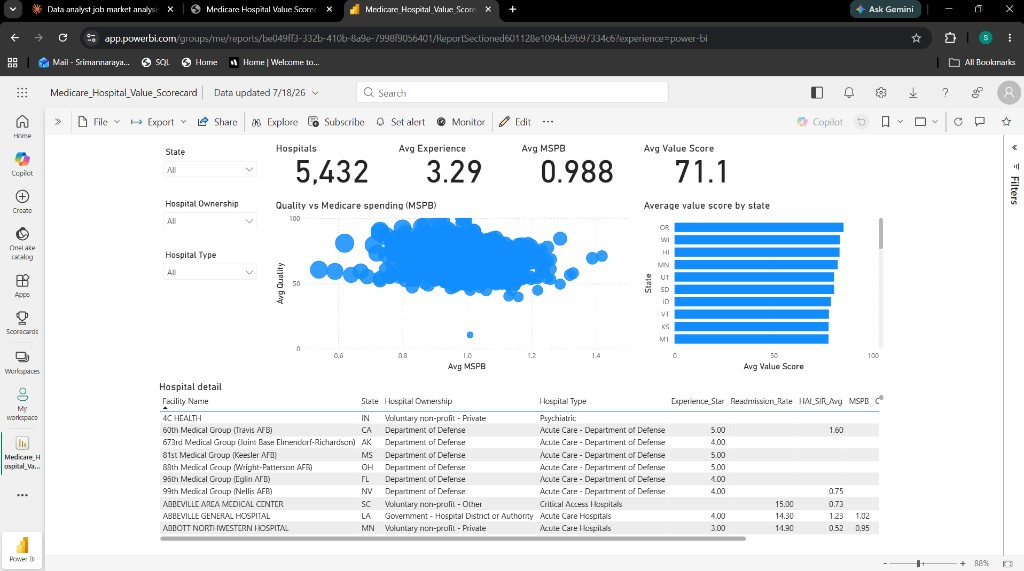

What the dashboard file says about the page in this screenshot:
{"tool":"powerbi","page":{"name":"Scorecard","canvas":[1280,720],"ordinal":0},"visuals":[{"type":"card","title":"Hospitals","fields":{"Values":["hospital_value.Hospital Count"]},"box":[210,12,200,88],"z":1000},{"type":"card","title":"Avg Experience","fields":{"Values":["hospital_value.Avg Experience"]},"box":[420,12,200,88],"z":2000},{"type":"card","title":"Avg MSPB","fields":{"Values":["hospital_value.Avg MSPB"]},"box":[630,12,200,88],"z":3000},{"type":"card","title":"Avg Value Score","fields":{"Values":["hospital_value.Avg Value Score"]},"box":[840,12,210,88],"z":4000},{"type":"slicer","fields":{"Values":["hospital_value.State"]},"box":[10,12,185,80],"z":5000},{"type":"slicer","fields":{"Values":["hospital_value.Hospital Ownership"]},"box":[10,100,185,80],"z":6000},{"type":"slicer","fields":{"Values":["hospital_value.Hospital Type"]},"box":[10,188,185,80],"z":7000},{"type":"scatterChart","title":"Quality vs Medicare spending (MSPB)","fields":{"Category":["hospital_value.Facility Name"],"Size":["hospital_value.Avg Value Score"],"X":["hospital_value.Avg MSPB"],"Y":["hospital_value.Avg Quality"]},"box":[210,110,620,300],"z":8000},{"type":"clusteredBarChart","title":"Average value score by state","fields":{"Category":["hospital_value.State"],"Y":["hospital_value.Avg Value Score"]},"box":[840,110,420,300],"z":9000},{"type":"tableEx","title":"Hospital detail","fields":{"Values":["hospital_value.Facility Name","hospital_value.State","hospital_value.Hospital Ownership","hospital_value.Hospital Type","hospital_value.Experience_Star","hospital_value.Readmission_Rate","hospital_value.HAI_SIR_Avg","hospital_value.MSPB","hospital_value.Quality","hospital_value.Value_Score","hospital_value.Focus_Flag"]},"box":[10,420,1250,280],"z":10000}]}

Visuals, with their boxes on the page's 1280x720 design canvas (x1, y1, x2, y2). These are canvas units, not pixel positions in the 1024x571 screenshot, which may show the page scaled, cropped or inside an application window:
"Hospitals" card: x1=210, y1=12, x2=410, y2=100
"Avg Experience" card: x1=420, y1=12, x2=620, y2=100
"Avg MSPB" card: x1=630, y1=12, x2=830, y2=100
"Avg Value Score" card: x1=840, y1=12, x2=1050, y2=100
slicer - hospital_value.State: x1=10, y1=12, x2=195, y2=92
slicer - hospital_value.Hospital Ownership: x1=10, y1=100, x2=195, y2=180
slicer - hospital_value.Hospital Type: x1=10, y1=188, x2=195, y2=268
"Quality vs Medicare spending (MSPB)" scatterChart: x1=210, y1=110, x2=830, y2=410
"Average value score by state" clusteredBarChart: x1=840, y1=110, x2=1260, y2=410
"Hospital detail" tableEx: x1=10, y1=420, x2=1260, y2=700
